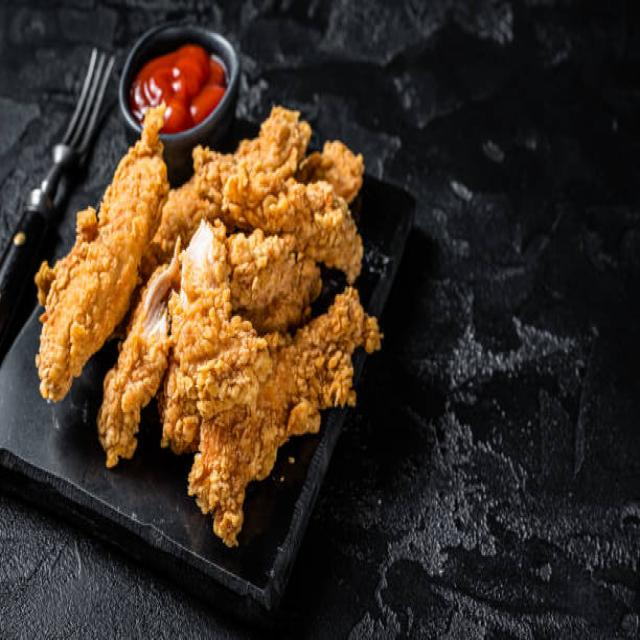CHICKEN FRY: (35, 103, 389, 547)
SAUCE: (127, 44, 228, 136)
